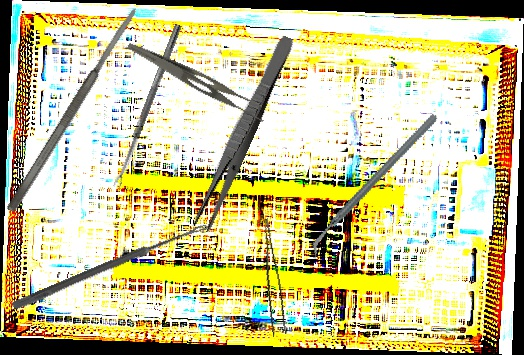Chopper: (278, 111, 470, 260)
Dressing Forceps: (190, 32, 297, 234), (120, 41, 272, 125)
Spatula Surgical: (4, 5, 142, 214)
Surgical Spoon: (11, 220, 209, 312), (112, 23, 182, 189)
Tissue Forceps: (250, 218, 291, 337)
